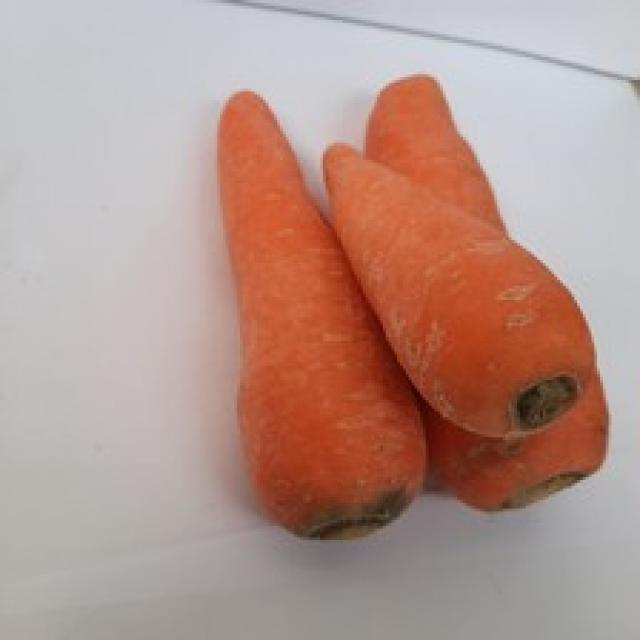carrot: (358, 74, 607, 518), (219, 88, 420, 546), (321, 136, 597, 440)
